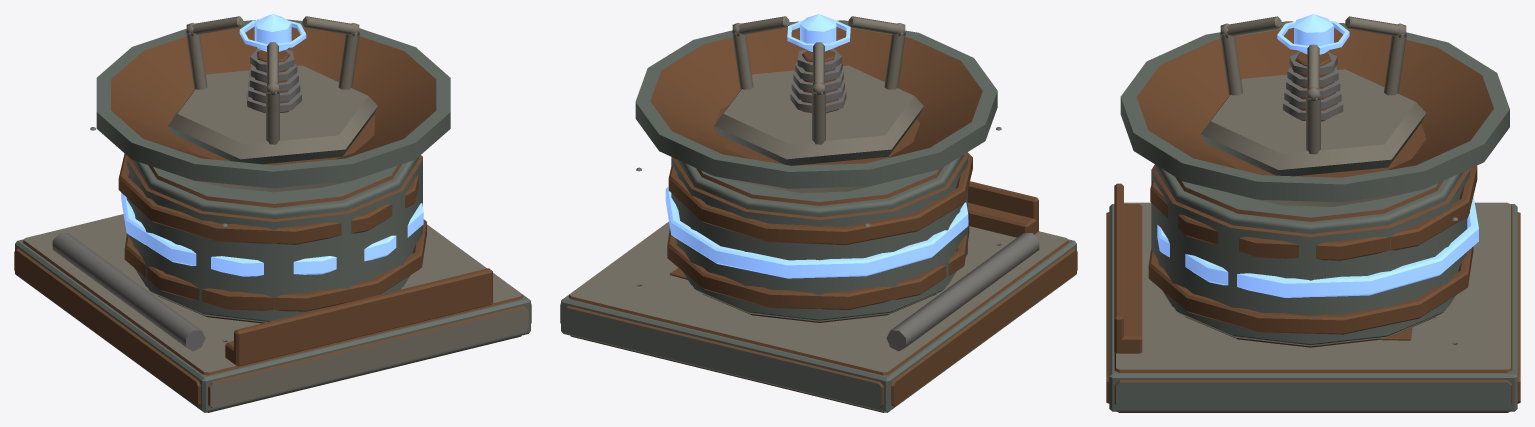
The model's file is R4X_EMPTrapDeployer.fbx.
3 views of the same model, side by side, from view 1: azimuth 30°, elevation 25°; view 2: azimuth 150°, elevation 25°; view 3: azimuth 270°, elevation 25° (orthographic). The views are drawn at different scales.
Visible parts, largest first — view 1: R4X_EMPTrapDeployer_Body, R4X_EMPTrapDeployer_Payload; view 2: R4X_EMPTrapDeployer_Body, R4X_EMPTrapDeployer_Payload; view 3: R4X_EMPTrapDeployer_Body, R4X_EMPTrapDeployer_Payload.
Part boxes in pixels (x1,y1,x2,y2): R4X_EMPTrapDeployer_Body: (14,19,531,412); R4X_EMPTrapDeployer_Payload: (168,14,377,164); R4X_EMPTrapDeployer_Body: (560,20,1077,412); R4X_EMPTrapDeployer_Payload: (714,14,923,165); R4X_EMPTrapDeployer_Body: (1106,21,1520,412); R4X_EMPTrapDeployer_Payload: (1200,14,1426,176).
Size of the model in its own units: 0.52 by 0.437 by 0.52.
